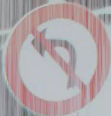Don't turn left: (15, 8, 102, 102)
